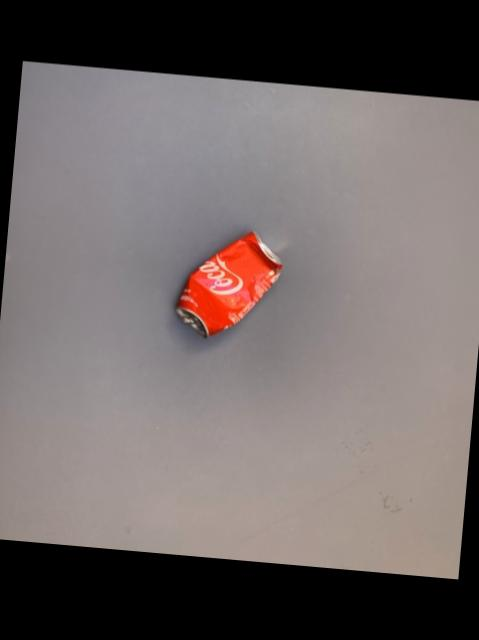metal: (174, 233, 278, 338)
